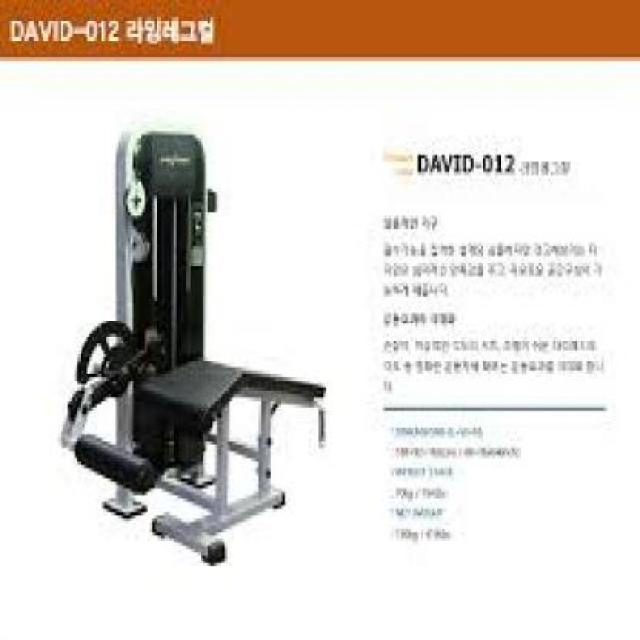reg curl machine: (51, 129, 332, 568)
